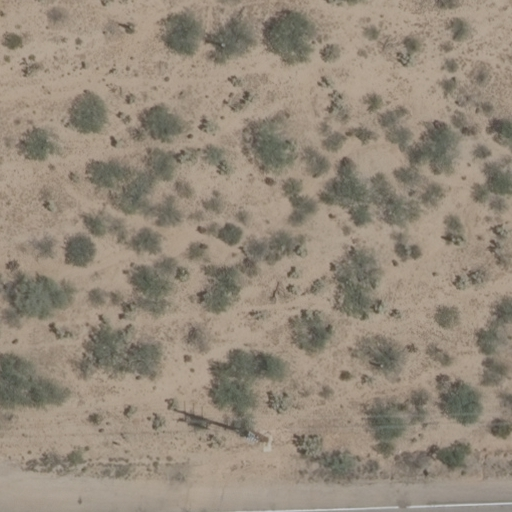DT: (255, 431, 280, 452)
